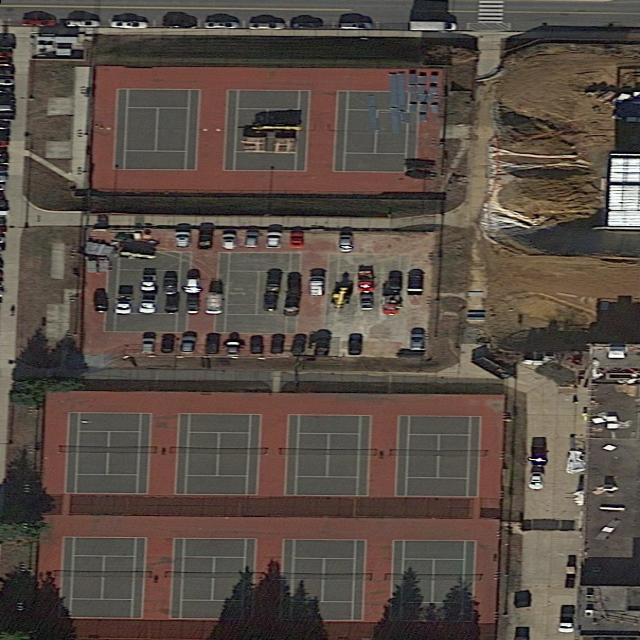small-vehicle: (407, 20, 460, 32), (378, 294, 404, 316), (290, 331, 312, 355), (407, 268, 425, 297), (203, 292, 225, 315), (137, 293, 160, 314), (556, 611, 577, 633), (195, 227, 215, 250), (203, 331, 223, 354), (356, 269, 376, 292), (386, 271, 404, 295), (314, 331, 331, 356), (528, 470, 548, 491), (113, 294, 134, 314), (138, 272, 158, 291), (108, 20, 150, 29), (309, 276, 327, 297), (201, 21, 242, 30), (532, 446, 550, 466), (162, 294, 180, 314), (172, 231, 193, 248), (270, 333, 286, 355), (20, 18, 59, 27), (336, 21, 374, 30), (266, 231, 285, 249), (140, 337, 159, 355), (248, 335, 266, 354), (162, 276, 180, 294), (244, 231, 263, 248), (290, 230, 307, 249), (409, 333, 428, 350), (179, 336, 198, 353), (247, 22, 287, 30), (348, 334, 362, 356), (159, 336, 177, 353), (186, 294, 201, 314), (65, 20, 102, 28), (338, 234, 354, 252), (160, 21, 200, 28), (185, 277, 201, 294), (516, 592, 532, 608), (221, 234, 239, 248), (360, 293, 374, 311), (289, 21, 324, 28), (226, 340, 239, 358)
